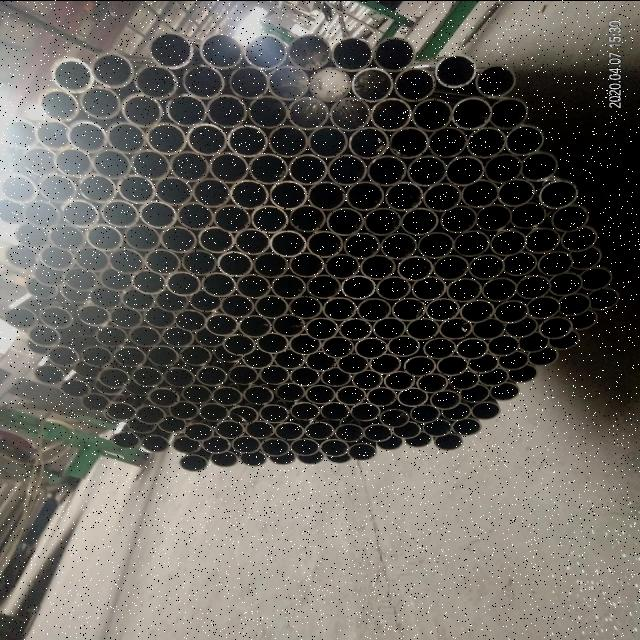pipe: (50, 56, 96, 94), (388, 65, 433, 103), (282, 34, 332, 68), (198, 31, 245, 67), (242, 33, 288, 69), (183, 122, 229, 158), (90, 51, 134, 87), (148, 32, 192, 68), (129, 68, 179, 98), (504, 124, 550, 156), (327, 37, 373, 69), (78, 84, 120, 119), (182, 65, 224, 100), (36, 88, 80, 121), (369, 37, 414, 69), (432, 54, 474, 88), (518, 150, 562, 182), (19, 143, 57, 179), (125, 92, 163, 128), (328, 97, 368, 131), (448, 97, 488, 131), (36, 173, 78, 205), (488, 98, 532, 128), (305, 126, 349, 156), (371, 98, 409, 132), (165, 94, 205, 126), (326, 154, 366, 186), (307, 68, 347, 100), (350, 69, 390, 101), (409, 99, 449, 131), (471, 67, 513, 97), (207, 151, 249, 181), (347, 126, 389, 156), (366, 153, 406, 184), (150, 122, 186, 156), (550, 205, 590, 235), (106, 123, 146, 153), (168, 152, 208, 182), (248, 153, 288, 183), (270, 67, 310, 97), (60, 198, 98, 229), (288, 95, 326, 126), (414, 230, 456, 258), (442, 156, 484, 184), (228, 124, 264, 156), (540, 178, 578, 208), (192, 178, 230, 208), (207, 96, 245, 126), (289, 153, 327, 183), (54, 147, 94, 175), (268, 128, 308, 156), (343, 182, 383, 210), (406, 156, 446, 184), (468, 128, 503, 160), (68, 123, 106, 152), (118, 175, 156, 204), (556, 226, 598, 252), (37, 301, 73, 331), (24, 198, 60, 228), (229, 181, 269, 208), (288, 203, 324, 233), (428, 128, 464, 158), (305, 182, 345, 208), (390, 130, 430, 156), (498, 180, 538, 206), (328, 208, 366, 235), (3, 171, 37, 201), (2, 118, 36, 148), (251, 93, 285, 123), (232, 68, 266, 98), (34, 119, 70, 147), (586, 286, 622, 314), (105, 247, 141, 275), (403, 207, 439, 235), (463, 179, 499, 207), (21, 276, 59, 302), (324, 253, 362, 279), (343, 230, 381, 256), (379, 232, 417, 258), (424, 183, 462, 209), (506, 204, 544, 230), (364, 207, 399, 235), (138, 200, 174, 227), (565, 245, 605, 269), (178, 200, 210, 230), (14, 222, 48, 250), (254, 251, 288, 279), (101, 398, 137, 424), (565, 307, 601, 333), (232, 229, 268, 255), (558, 289, 590, 318), (486, 153, 518, 182), (180, 249, 217, 274), (85, 225, 119, 252), (538, 317, 576, 341), (466, 255, 504, 279), (80, 177, 116, 202), (4, 242, 36, 270), (156, 176, 188, 204), (273, 182, 305, 210), (38, 244, 72, 270), (79, 344, 113, 370), (88, 286, 122, 312), (92, 150, 126, 176), (198, 226, 232, 252), (214, 204, 248, 230), (308, 230, 342, 256), (342, 274, 376, 300), (436, 255, 470, 281), (386, 182, 420, 208), (442, 208, 476, 234), (516, 276, 550, 302), (578, 267, 618, 289), (474, 205, 509, 230), (134, 150, 166, 177), (357, 294, 393, 318), (424, 298, 460, 322), (460, 298, 496, 322), (490, 230, 526, 254), (536, 250, 572, 274), (105, 202, 139, 227), (344, 438, 379, 462), (361, 256, 396, 280), (483, 334, 518, 358), (528, 226, 558, 254), (394, 297, 426, 323), (527, 295, 559, 321), (548, 273, 580, 299), (96, 369, 130, 393), (131, 269, 165, 293), (172, 307, 206, 331), (126, 225, 160, 249), (254, 294, 288, 318), (270, 232, 304, 256), (398, 255, 432, 279), (3, 307, 40, 329), (49, 340, 78, 368), (28, 322, 61, 346), (144, 344, 177, 368), (162, 364, 195, 388), (224, 363, 258, 386), (370, 315, 404, 338), (163, 226, 193, 252), (502, 253, 532, 279), (374, 277, 409, 299), (130, 366, 162, 390), (220, 294, 252, 318), (288, 253, 320, 277), (252, 206, 284, 230), (414, 275, 446, 299), (456, 338, 488, 362), (456, 232, 488, 256), (157, 327, 195, 347), (271, 276, 307, 297), (126, 324, 160, 346), (166, 273, 200, 295), (202, 274, 236, 296), (338, 317, 372, 339), (308, 277, 342, 299), (429, 388, 463, 410), (51, 226, 82, 250), (67, 318, 99, 341), (408, 318, 440, 341), (438, 318, 470, 341), (448, 279, 480, 302), (99, 268, 132, 290), (192, 326, 225, 348), (508, 363, 538, 387), (526, 347, 562, 367), (113, 344, 143, 368), (66, 267, 96, 291), (208, 312, 238, 336), (148, 250, 178, 274), (219, 251, 249, 275), (322, 299, 358, 319), (57, 284, 91, 305), (401, 428, 433, 450), (489, 381, 521, 403), (146, 387, 178, 409), (108, 306, 140, 328), (179, 344, 211, 366), (240, 314, 272, 336), (290, 296, 322, 318), (424, 336, 456, 358), (140, 430, 168, 455), (62, 376, 92, 399), (468, 400, 502, 420), (518, 332, 552, 352), (196, 366, 230, 386), (240, 383, 274, 403), (254, 332, 288, 352), (386, 336, 420, 356), (79, 304, 107, 328), (356, 337, 384, 361), (33, 263, 63, 285), (172, 432, 202, 454), (497, 349, 527, 371), (76, 249, 106, 271), (370, 354, 400, 376), (485, 279, 515, 301), (35, 364, 67, 384), (126, 416, 158, 436), (237, 448, 269, 468), (432, 432, 464, 452), (451, 416, 483, 436), (168, 400, 200, 420), (200, 436, 232, 456), (256, 436, 288, 456), (143, 306, 175, 326), (155, 289, 187, 309), (208, 344, 240, 364), (258, 365, 290, 385), (190, 292, 222, 312), (306, 319, 338, 339), (496, 302, 528, 322), (210, 386, 243, 405), (1, 197, 24, 224), (98, 326, 126, 348), (291, 400, 319, 422), (239, 274, 267, 296), (422, 418, 456, 436), (504, 318, 538, 336), (27, 334, 52, 358), (228, 434, 258, 454), (364, 423, 394, 443), (442, 403, 472, 423), (460, 384, 490, 404), (122, 289, 152, 309), (224, 334, 254, 354), (320, 402, 350, 422), (384, 370, 414, 390), (437, 355, 467, 375), (470, 353, 500, 373), (212, 447, 238, 470), (109, 430, 142, 448), (452, 368, 479, 390), (551, 328, 579, 349), (136, 405, 168, 423), (288, 438, 320, 456), (401, 356, 433, 374), (216, 418, 242, 440), (338, 385, 364, 407), (322, 369, 348, 391), (273, 315, 299, 337), (158, 416, 188, 435), (417, 373, 447, 392), (474, 318, 504, 337), (83, 390, 111, 410), (268, 448, 296, 468), (320, 437, 348, 457), (183, 383, 211, 403), (246, 348, 274, 368), (306, 385, 334, 405), (290, 334, 318, 354), (324, 338, 352, 358), (338, 354, 366, 374), (353, 368, 381, 388), (272, 349, 304, 366), (177, 453, 207, 471), (292, 449, 322, 467), (324, 447, 354, 465), (186, 423, 216, 441), (481, 368, 508, 388), (258, 405, 288, 423), (304, 420, 334, 438), (338, 422, 362, 444), (231, 404, 257, 424), (308, 352, 334, 372), (248, 420, 276, 438), (368, 387, 396, 405), (354, 403, 379, 423), (412, 403, 437, 423), (291, 366, 317, 385), (4, 149, 24, 173), (390, 422, 420, 438), (202, 403, 226, 423), (278, 383, 302, 403), (400, 387, 424, 407), (377, 434, 402, 452), (272, 422, 300, 438), (380, 411, 408, 426)
